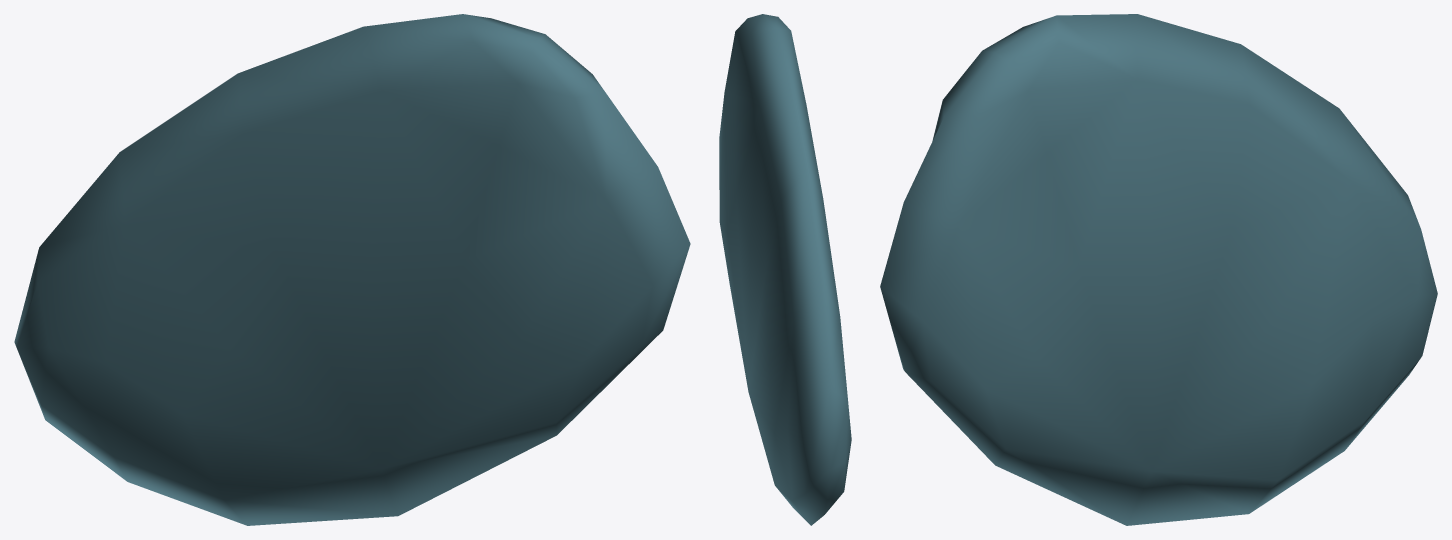
File: Flexor_digitorum_profundus_1st_finger_distal_phalanx_left.glb
The picture shows the model from 3 angles, left to right: view 1: azimuth 30°, elevation 25°; view 2: azimuth 150°, elevation 25°; view 3: azimuth 270°, elevation 25°; orthographic projection. The views are drawn at different scales.
Parts seen in each view (by area): view 1: Flexor_digitorum_profundus_on_distal_phalanx_of_1st_finger._; view 2: Flexor_digitorum_profundus_on_distal_phalanx_of_1st_finger._; view 3: Flexor_digitorum_profundus_on_distal_phalanx_of_1st_finger._.
Part boxes in pixels (x1,y1,x2,y2): Flexor_digitorum_profundus_on_distal_phalanx_of_1st_finger._: [14, 14, 690, 525]; Flexor_digitorum_profundus_on_distal_phalanx_of_1st_finger._: [719, 14, 851, 525]; Flexor_digitorum_profundus_on_distal_phalanx_of_1st_finger._: [880, 14, 1437, 525].
Size of the model in its own units: 0.00281 by 0.00359 by 0.00325.
